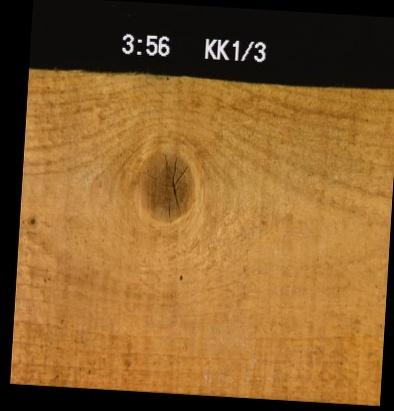small_knot: (26, 214, 35, 225)
sound_knot: (134, 148, 194, 222)
